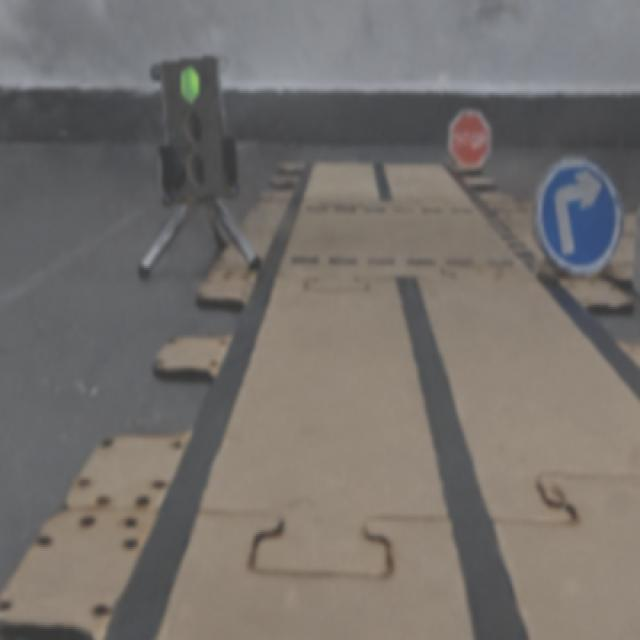RIGHT: (535, 158, 621, 273)
STOP: (448, 110, 490, 166)
